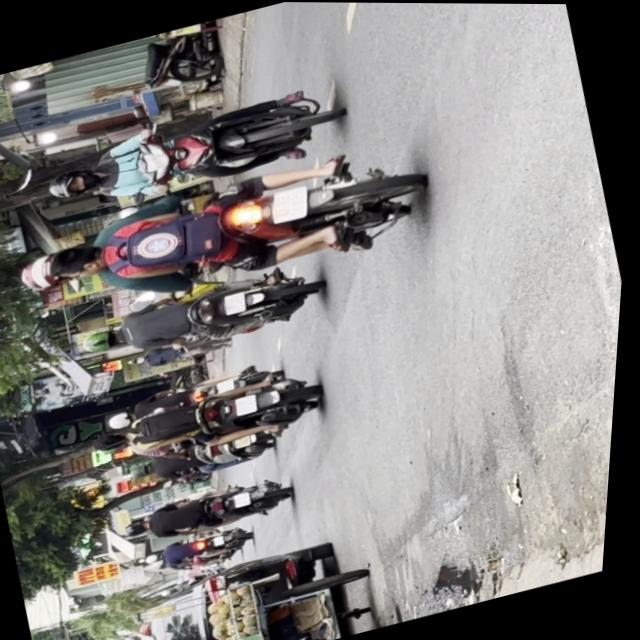helmet: (19, 246, 78, 296), (45, 161, 106, 201), (81, 323, 125, 354)
licenseplate: (6, 127, 437, 335), (35, 72, 354, 225), (76, 252, 334, 377), (89, 363, 333, 476)
motorcyclist: (49, 235, 112, 284), (95, 427, 137, 455)
nohelmet: (267, 183, 313, 222), (226, 289, 251, 314), (237, 392, 264, 414)
